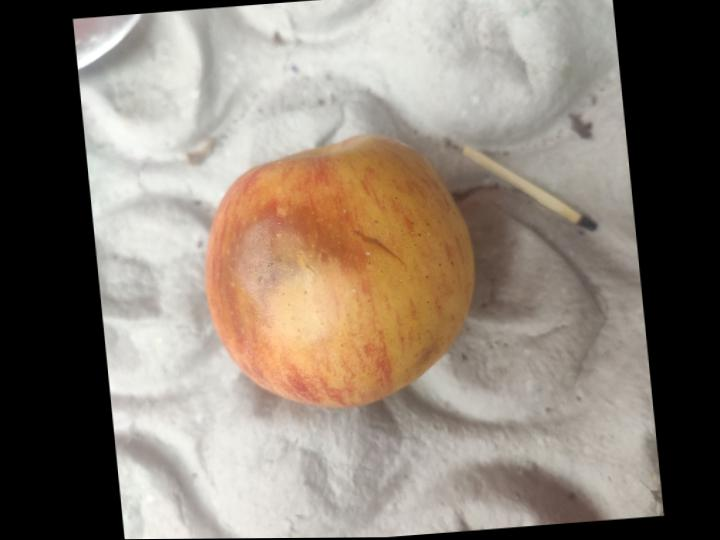apple: (207, 135, 473, 405)
bruise_discoloration: (234, 204, 369, 322)
surface_damage: (354, 229, 407, 269)
